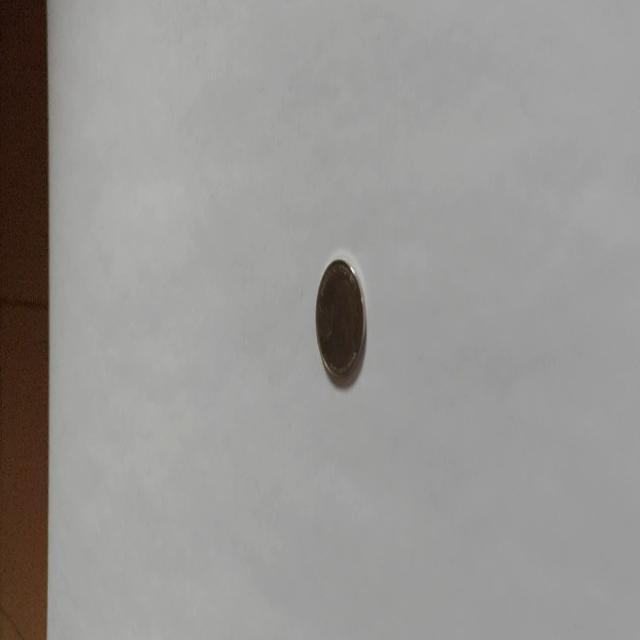seribu rupiah koin: (313, 254, 367, 386)
